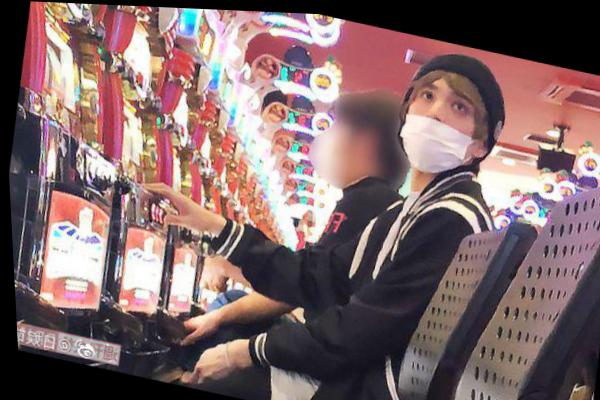WRONG: (395, 66, 488, 177)
